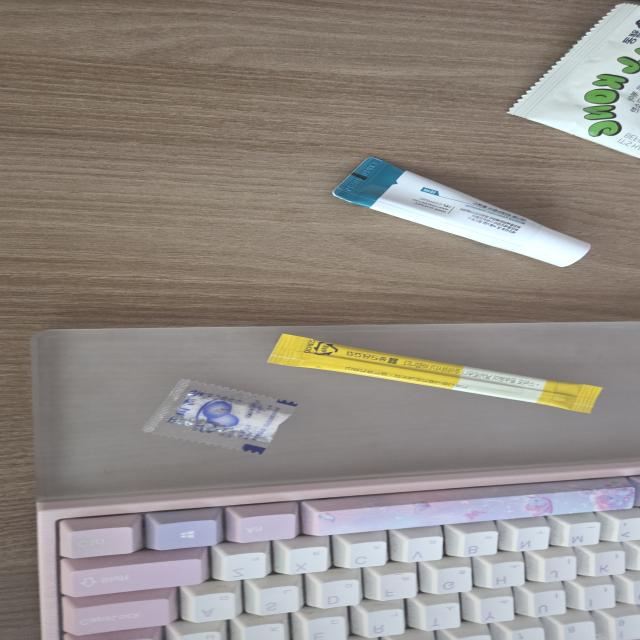lacto: (265, 334, 605, 414)
lib: (332, 157, 595, 268)
salt: (143, 379, 297, 457)
